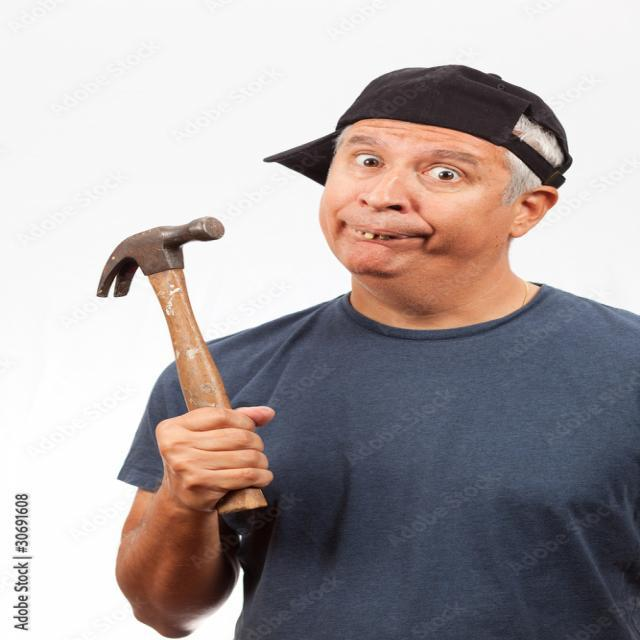hammer: (86, 207, 282, 516)
